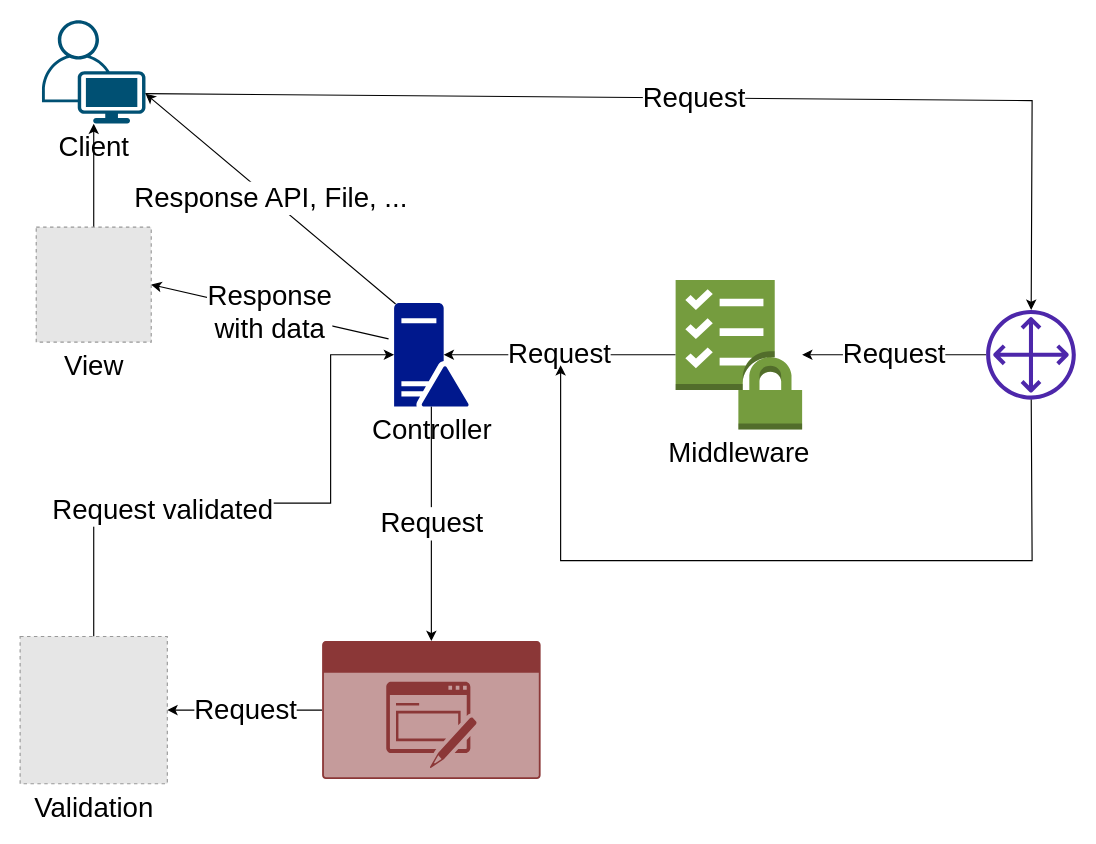
The diagram is 1096 pixels wide and 844 high, and some of its shapes have lost their labels. Grey dashed boxes stand in for pictures. The shapes that lost their labels are listed below. From the top down, each one's box as (x1, y1, x2, y2) in pixels, then its label:
(986, 309, 1075, 399): Router
(322, 641, 540, 779): Form
